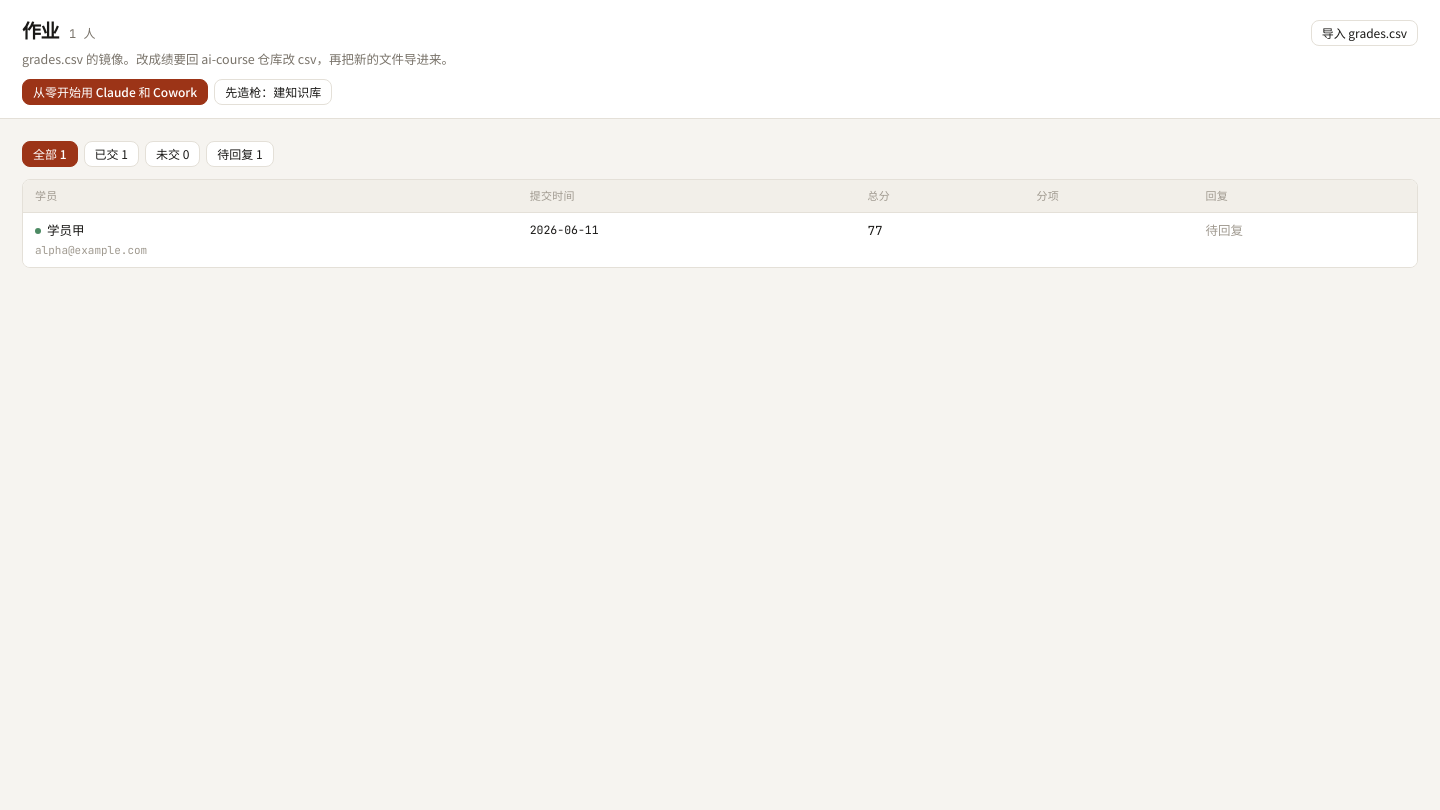
Test: 详情面板 › 显示总分、本课排名、分项原始分、亮点、改进与来源
Click the row with test id "homework-alpha@example.com" at (720, 240), box [23,213,1417,267]
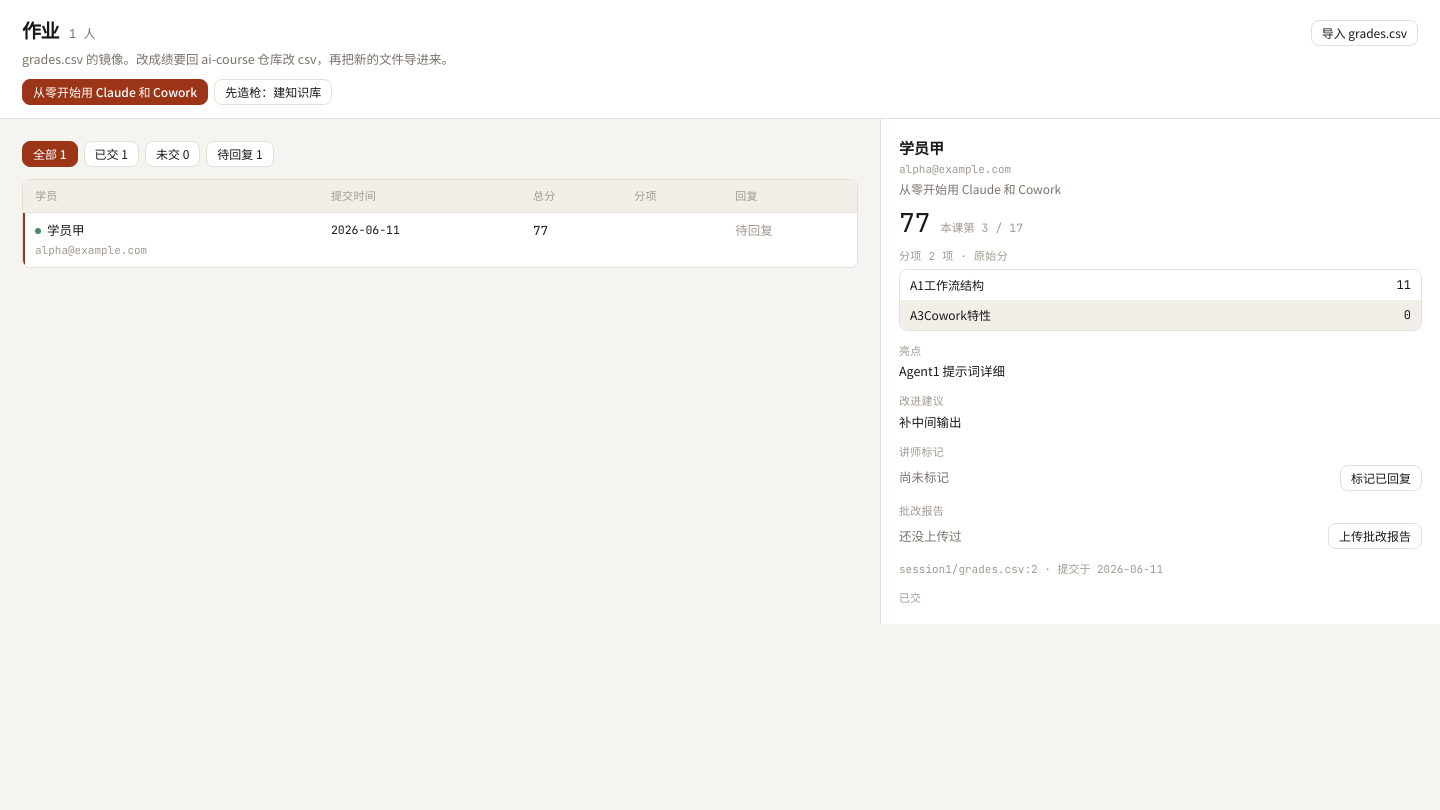
Expected: the text "77" next to "本课第" is shown, [899,205,930,240]
Expected: the text "本课第 3 / 17" is shown, [940,219,1023,236]
Expected: the text "A1工作流结构" is shown, [910,276,984,294]
